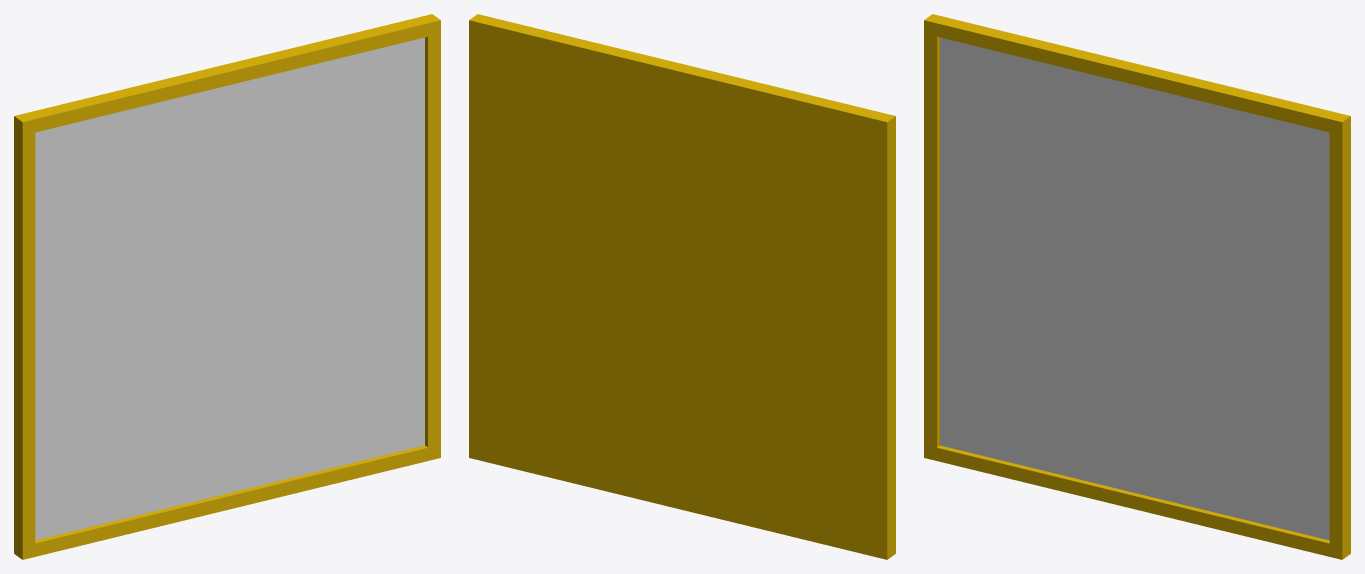
Rendered from Frame_square.glb.
The picture shows the model from 3 angles, left to right: view 1: azimuth 30°, elevation 25°; view 2: azimuth 150°, elevation 25°; view 3: azimuth 330°, elevation 25°; orthographic projection.
Parts seen in each view (by area): view 1: Frame_square; view 2: Frame_square; view 3: Frame_square.
Boxes of the visible parts, bbox=[...] form: Frame_square: bbox=[14, 14, 440, 559]; Frame_square: bbox=[469, 14, 895, 559]; Frame_square: bbox=[924, 14, 1350, 559].
Size of the model in its own units: 2 by 2 by 0.0707.
